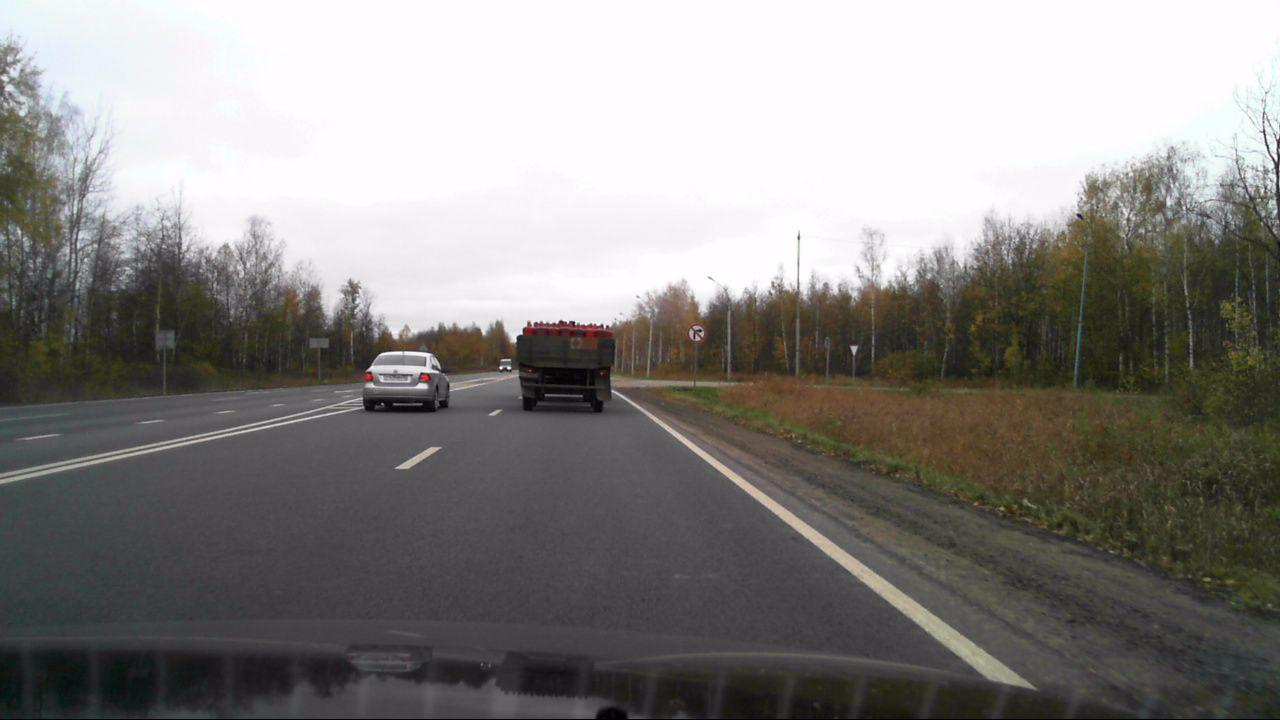road_sign: (687, 323, 708, 344)
